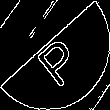P_NW: (26, 24, 84, 86)
